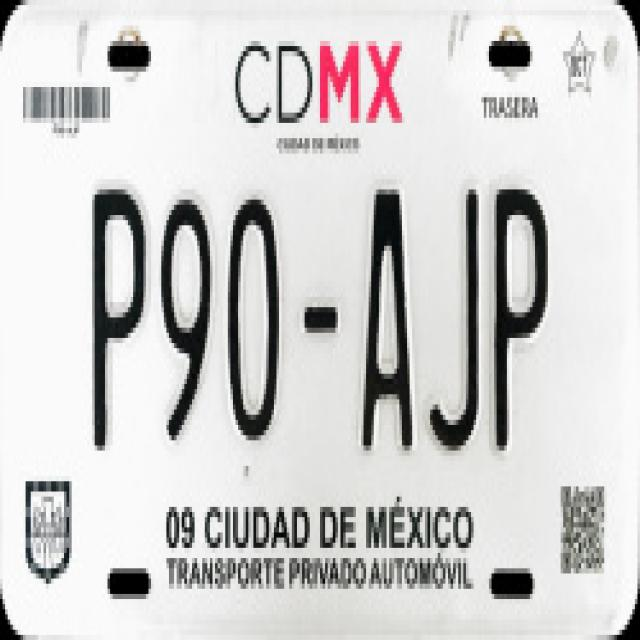placa: (53, 149, 606, 462)
